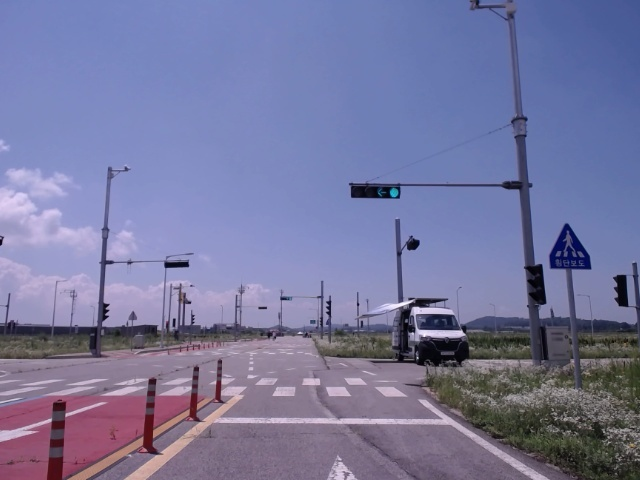all_green_4: (345, 183, 401, 200)
